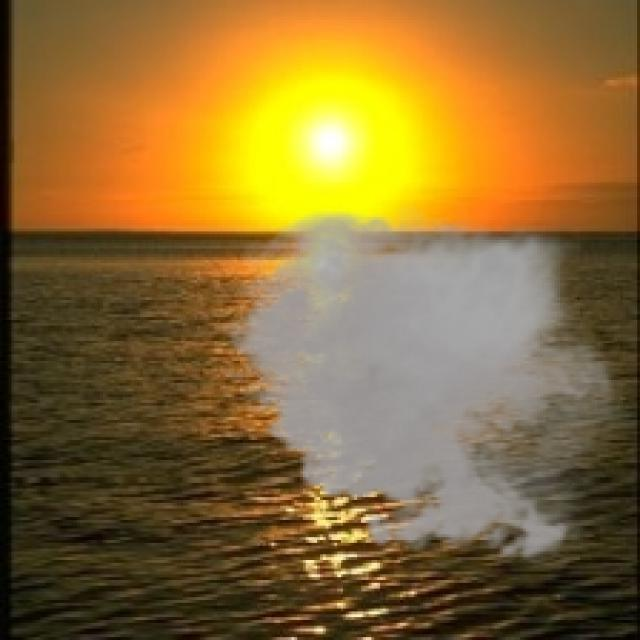smoke: (212, 197, 637, 572)
